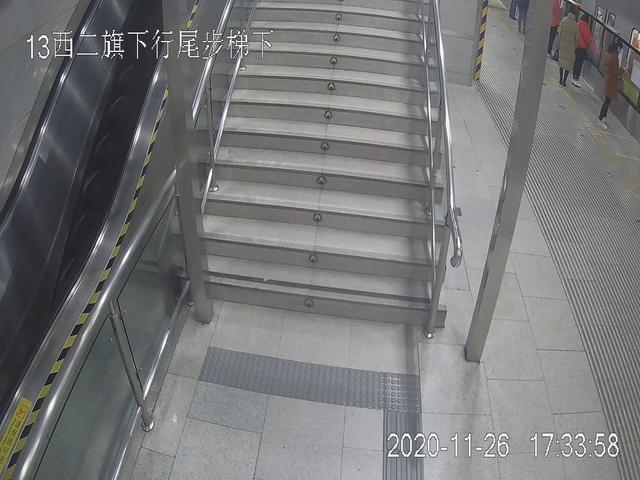person: (553, 2, 592, 90), (595, 35, 629, 125), (571, 9, 604, 87)
